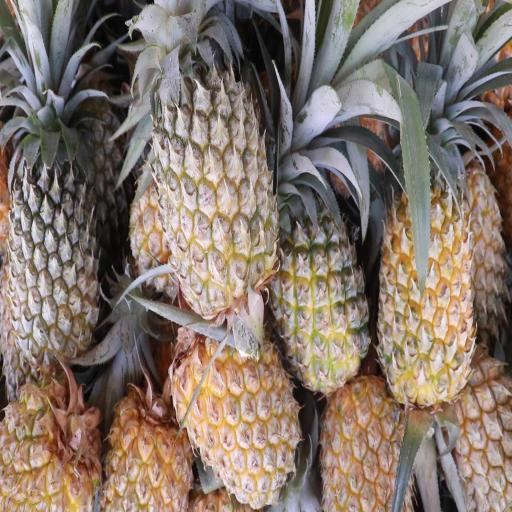------------------------------: (150, 5, 284, 339), (269, 146, 374, 399)
Pineapple - v8 v1: (376, 110, 482, 410), (170, 314, 305, 511), (0, 376, 107, 512), (316, 378, 418, 512), (103, 388, 202, 510), (445, 504, 451, 512)
